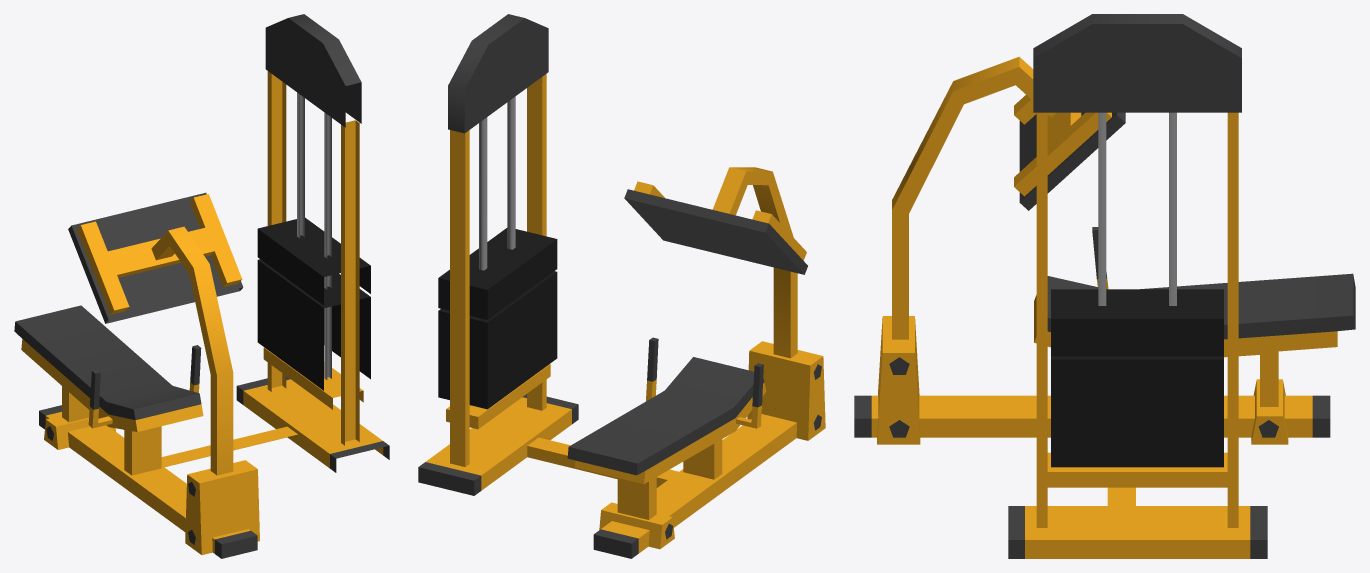
The model's file is interior_k_006.fbx.
3 renders of one model, left to right at view 1: azimuth 30°, elevation 25°; view 2: azimuth 150°, elevation 25°; view 3: azimuth 270°, elevation 25°, orthographic. The views are drawn at different scales.
Visible parts, largest first — view 1: interior_k_006; view 2: interior_k_006; view 3: interior_k_006.
Part boxes in pixels (<box>): interior_k_006: <box>14,14,389,558</box>; interior_k_006: <box>418,14,825,558</box>; interior_k_006: <box>854,14,1355,558</box>.
Size of the model in its own units: 113 by 156 by 136.
